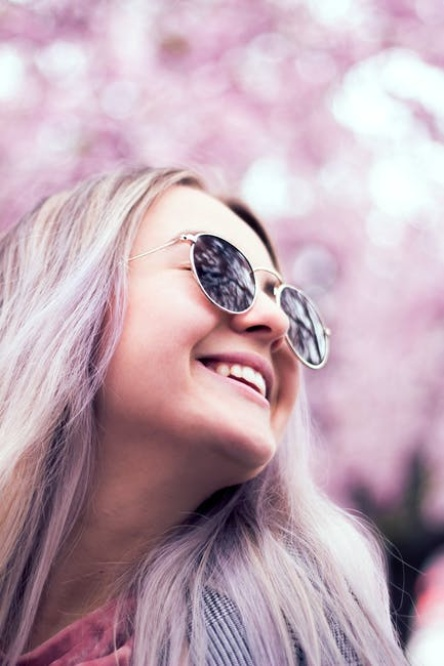face: (114, 184, 299, 478)
